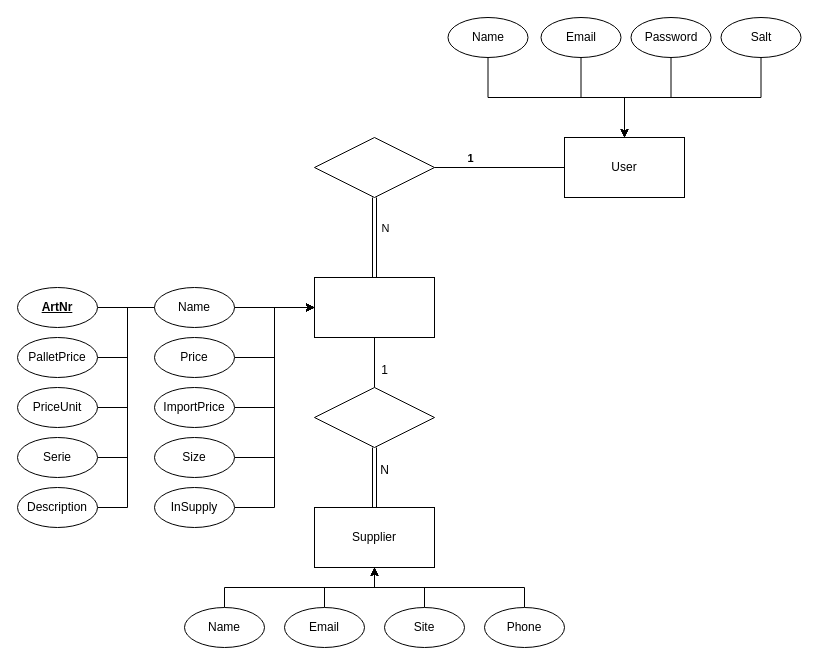
Image size: 819x665. Some labels were removed from this diagram. The shapes that lost their labels are listed below. From the top down, each one's centre as x and y in pixels, then its label:
[374,167]: Modified
[374,307]: Tile
[374,417]: IsFrom
